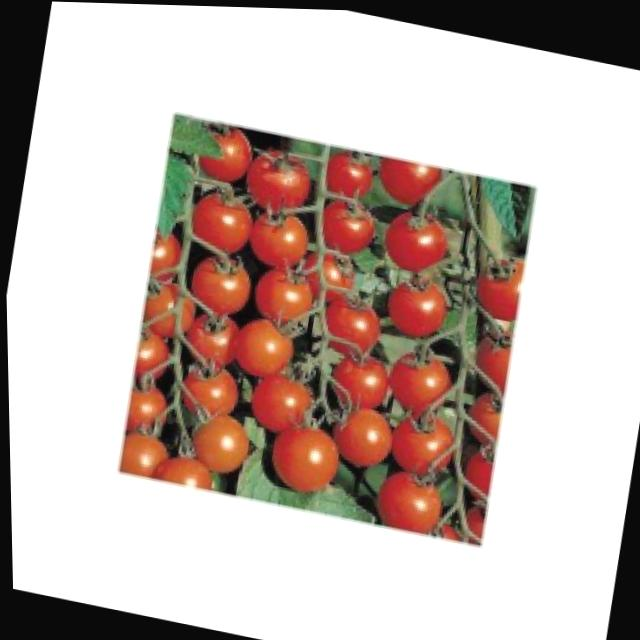tomato: (256, 419, 343, 500), (382, 399, 459, 486), (180, 245, 259, 322), (369, 462, 446, 537), (380, 268, 454, 343), (379, 202, 451, 275), (241, 143, 314, 215), (241, 204, 314, 275), (327, 400, 397, 470), (243, 369, 316, 435), (186, 407, 256, 475), (316, 287, 382, 355), (193, 120, 255, 186), (326, 347, 389, 411), (470, 246, 523, 319), (316, 193, 377, 256), (180, 308, 240, 370), (374, 154, 441, 207), (321, 145, 376, 201), (116, 428, 168, 479), (469, 332, 510, 392), (123, 382, 167, 437), (152, 451, 213, 488), (460, 388, 500, 444), (132, 330, 170, 381), (147, 227, 182, 281), (459, 445, 492, 497)
